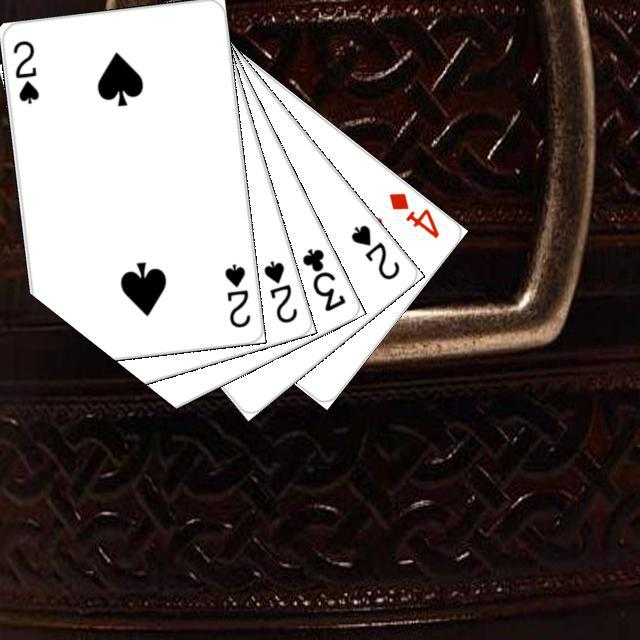2s: (345, 219, 402, 282), (258, 255, 299, 325), (219, 259, 252, 329), (8, 35, 41, 105)
3c: (297, 243, 348, 313)
4d: (384, 187, 441, 240)
